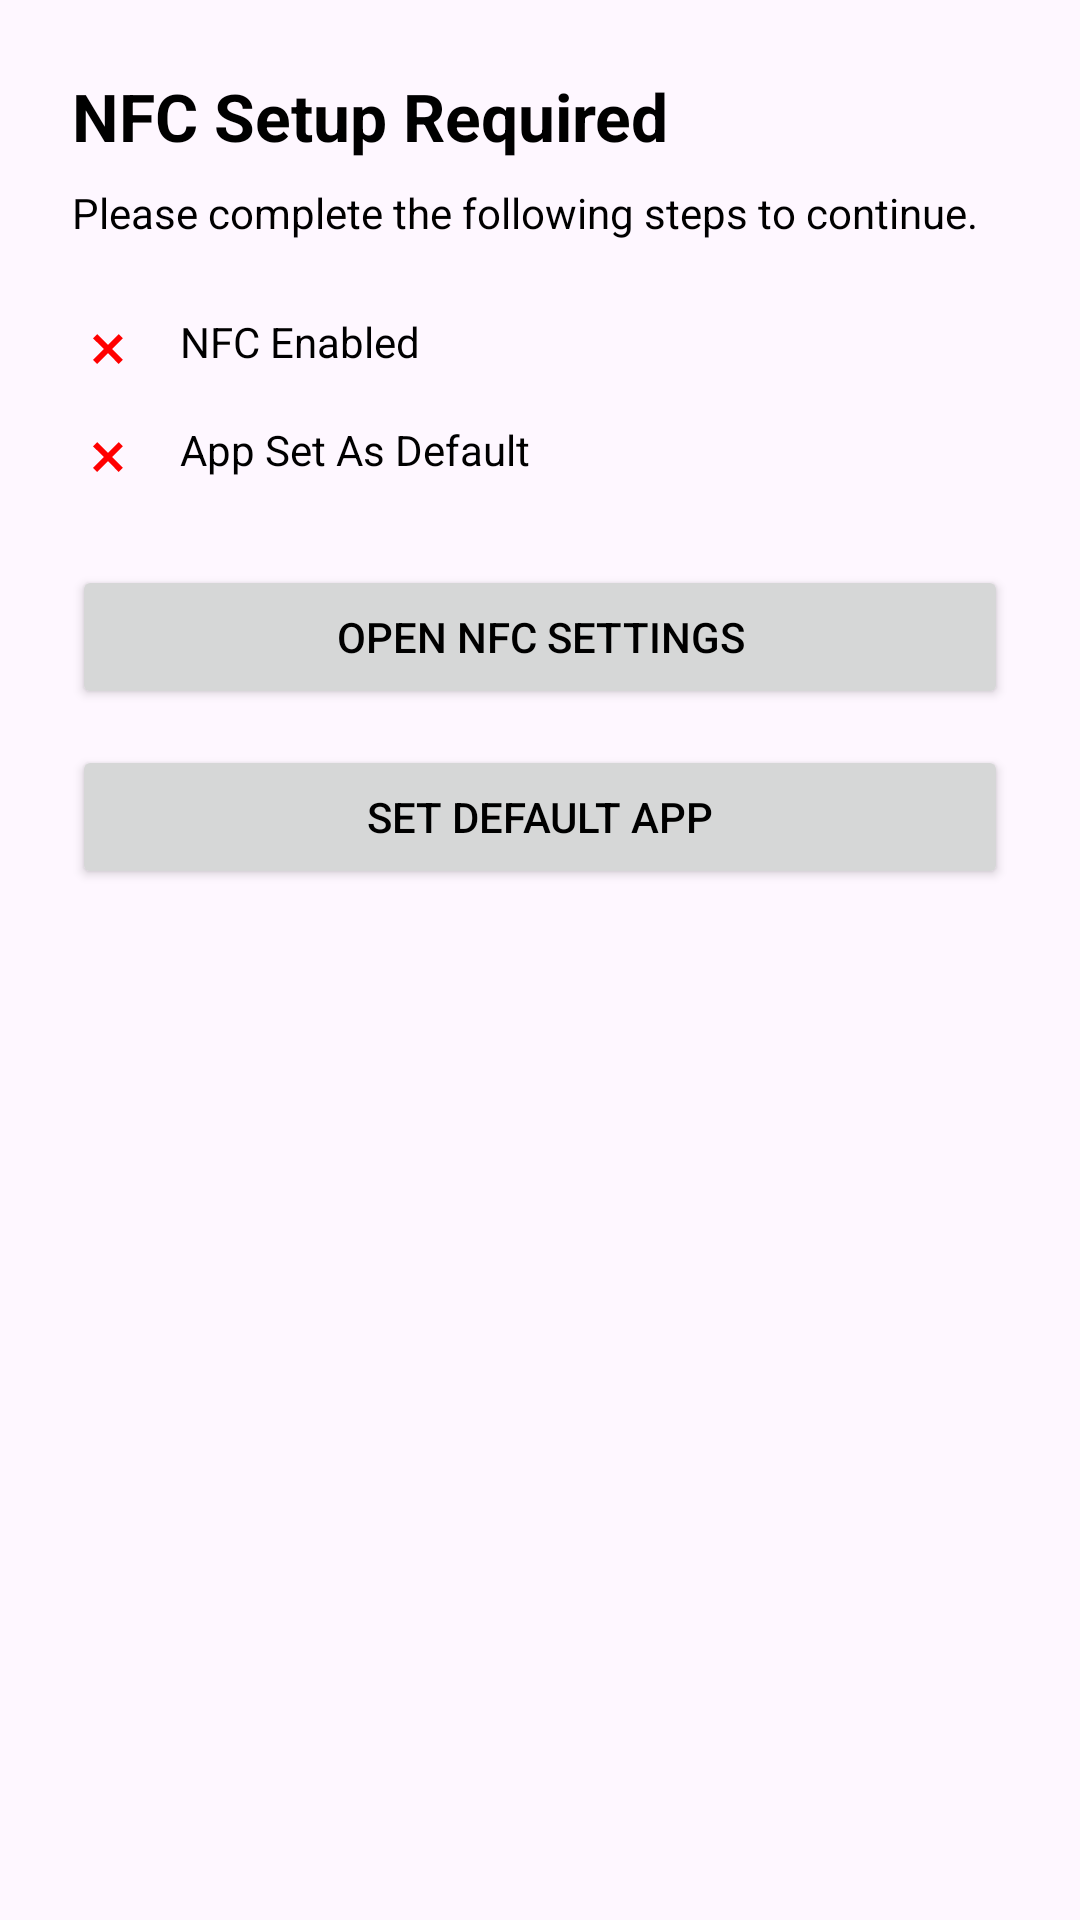

Screen size 1080x1920. Icon name, then its box in pixels as [x1=x1, y1=y1, x2=x2, y2=y2]:
close: [x1=93, y1=334, x2=123, y2=364], [x1=93, y1=442, x2=123, y2=472]
